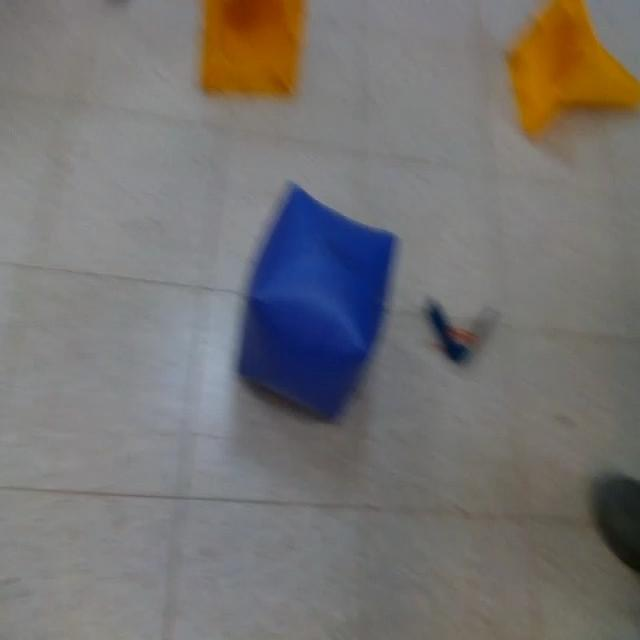cone: (515, 0, 640, 138), (199, 0, 307, 101)
cube: (238, 180, 396, 425)
